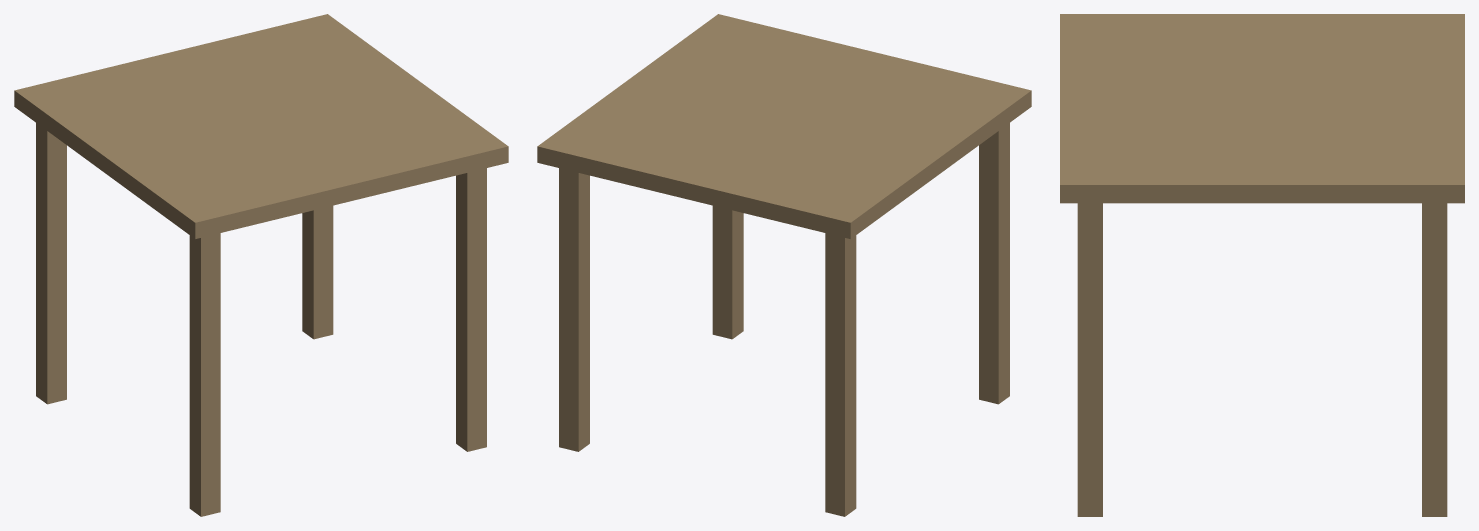
The model's file is SM_Prop_cafe_table_1_LOD2.glb.
3 renders of one model, left to right at view 1: azimuth 30°, elevation 25°; view 2: azimuth 150°, elevation 25°; view 3: azimuth 270°, elevation 25°, orthographic. The views are drawn at different scales.
Visible parts, largest first — view 1: SM_Prop_cafe_table_1_LOD2; view 2: SM_Prop_cafe_table_1_LOD2; view 3: SM_Prop_cafe_table_1_LOD2.
Boxes of the visible parts, <box> form: SM_Prop_cafe_table_1_LOD2: <box>14,14,508,516</box>; SM_Prop_cafe_table_1_LOD2: <box>537,14,1031,516</box>; SM_Prop_cafe_table_1_LOD2: <box>1060,14,1464,516</box>.
Size of the model in its own units: 0.8 by 0.74 by 0.8.
